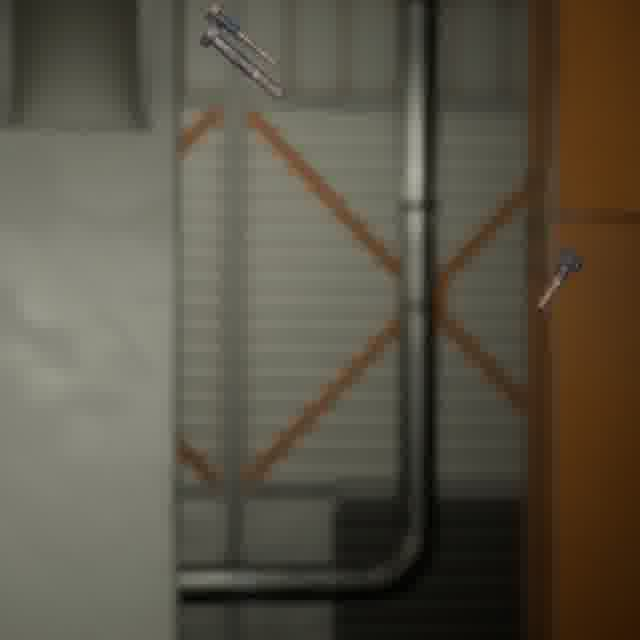bolt: (195, 19, 289, 105), (200, 0, 284, 73), (532, 244, 588, 313)
